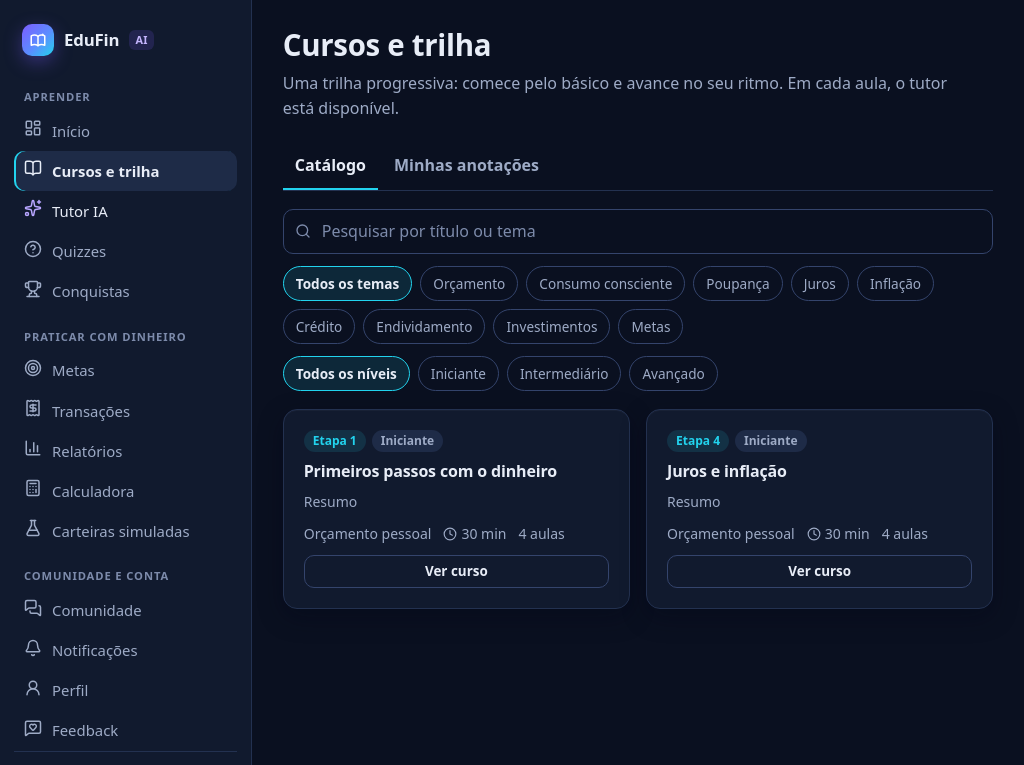
catálogo › pesquisa cursos pelo título e mostra estado vazio com opção de limpar
The image size is (1024, 765).
Check: the link "Juros e inflação" is shown, box [667,460,787,482]
Check: the text "Etapa 4" is shown, box [667,430,729,452]
Type "juros" into the search field named "Pesquisar cursos" at (638, 231), box [283,209,993,254]
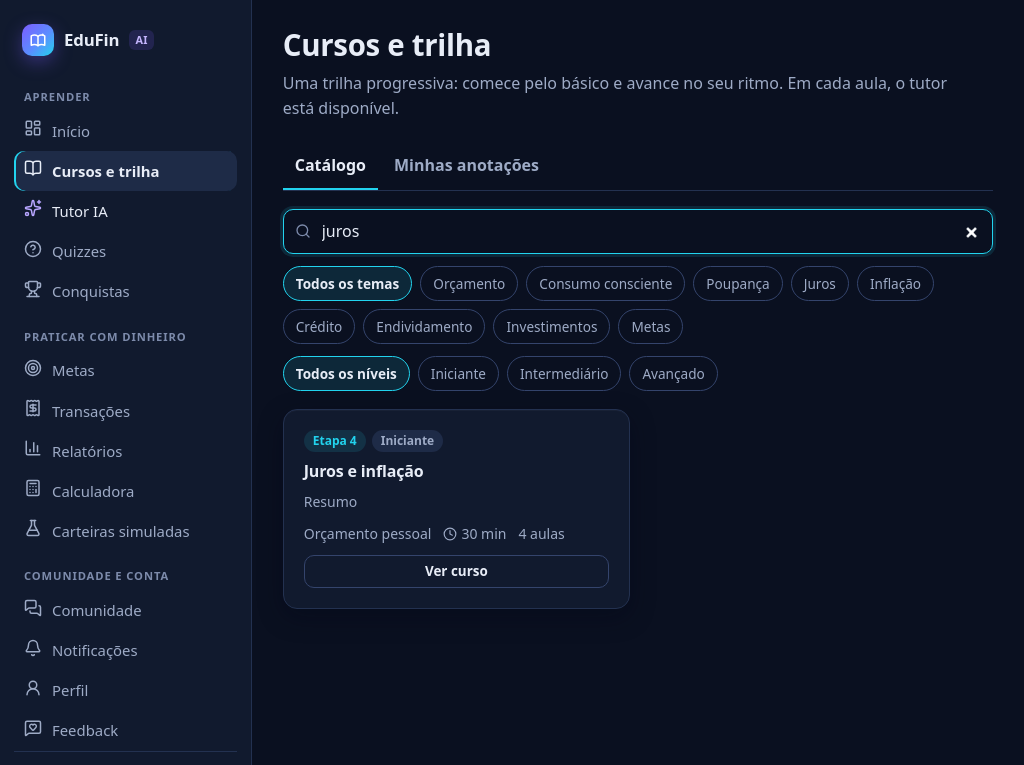
Check: the link "Primeiros passos com o dinheiro" is gone
Replace the text in the search field named "Pesquisar cursos" with "xyz" at (638, 231), box [283,209,993,254]
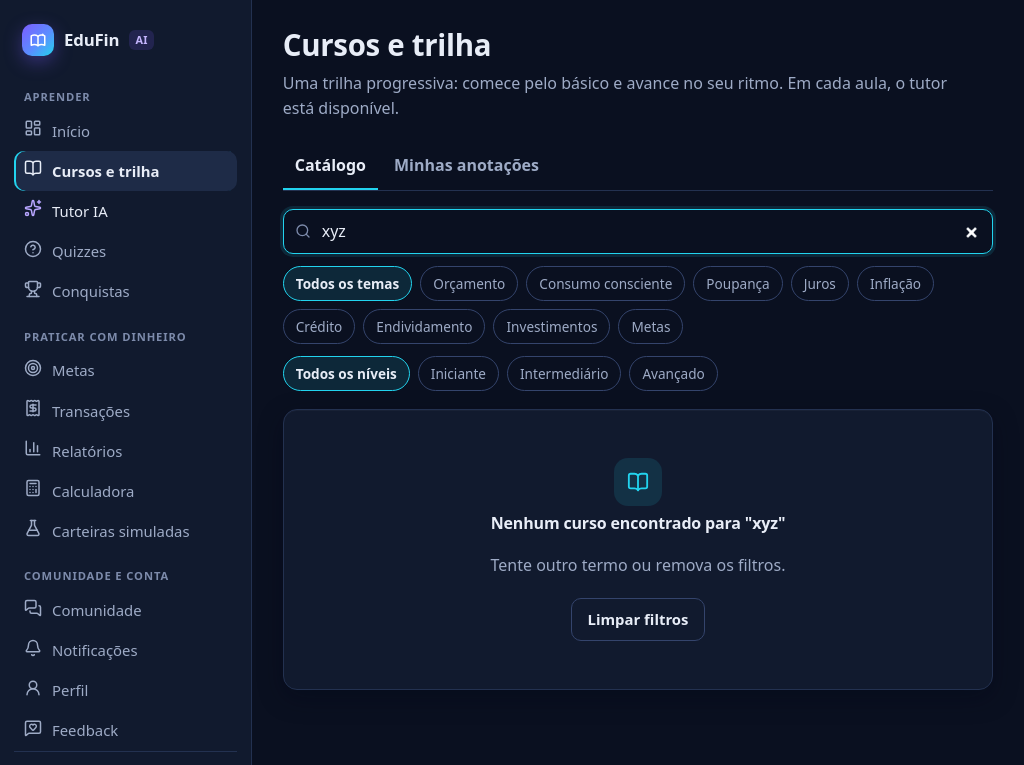
Check: the heading "Nenhum curso encontrado para \"xyz\"" is shown, box [491,514,785,533]
Click the button "Limpar filtros" at (638, 619), box [570,598,705,641]
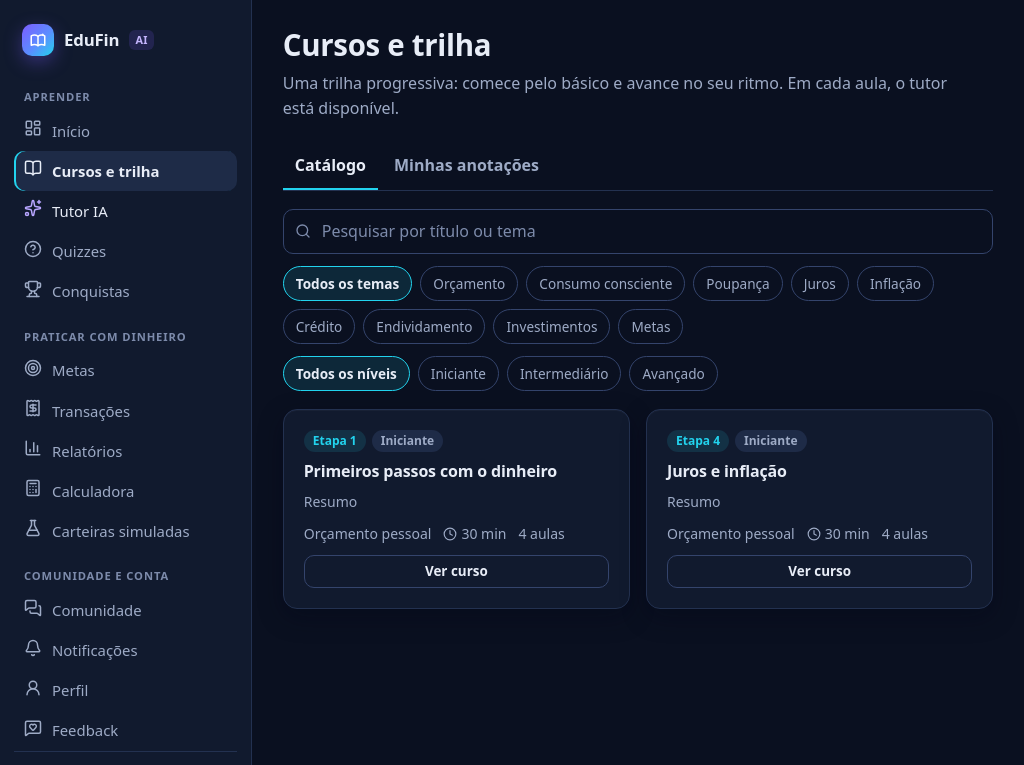
Check: the link "Juros e inflação" is shown, box [667,460,787,482]
